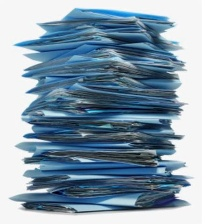book: (6, 2, 199, 219)
